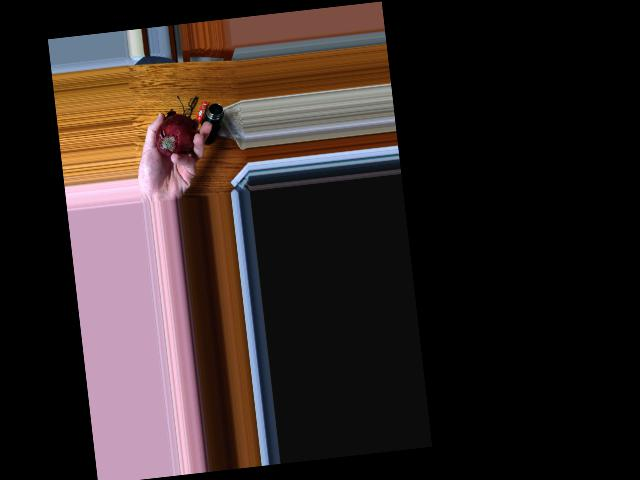onion: (154, 113, 196, 159)
